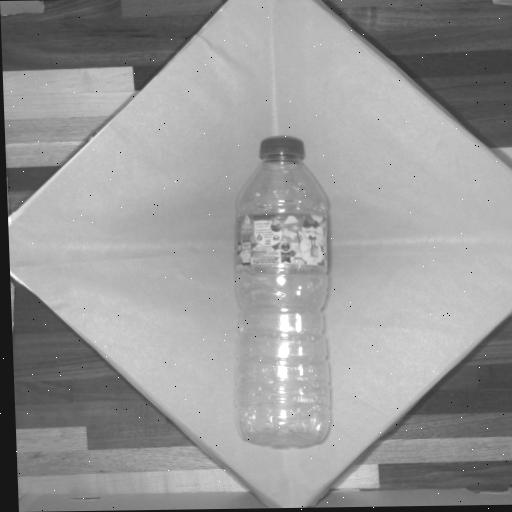bottle: (230, 134, 335, 448)
